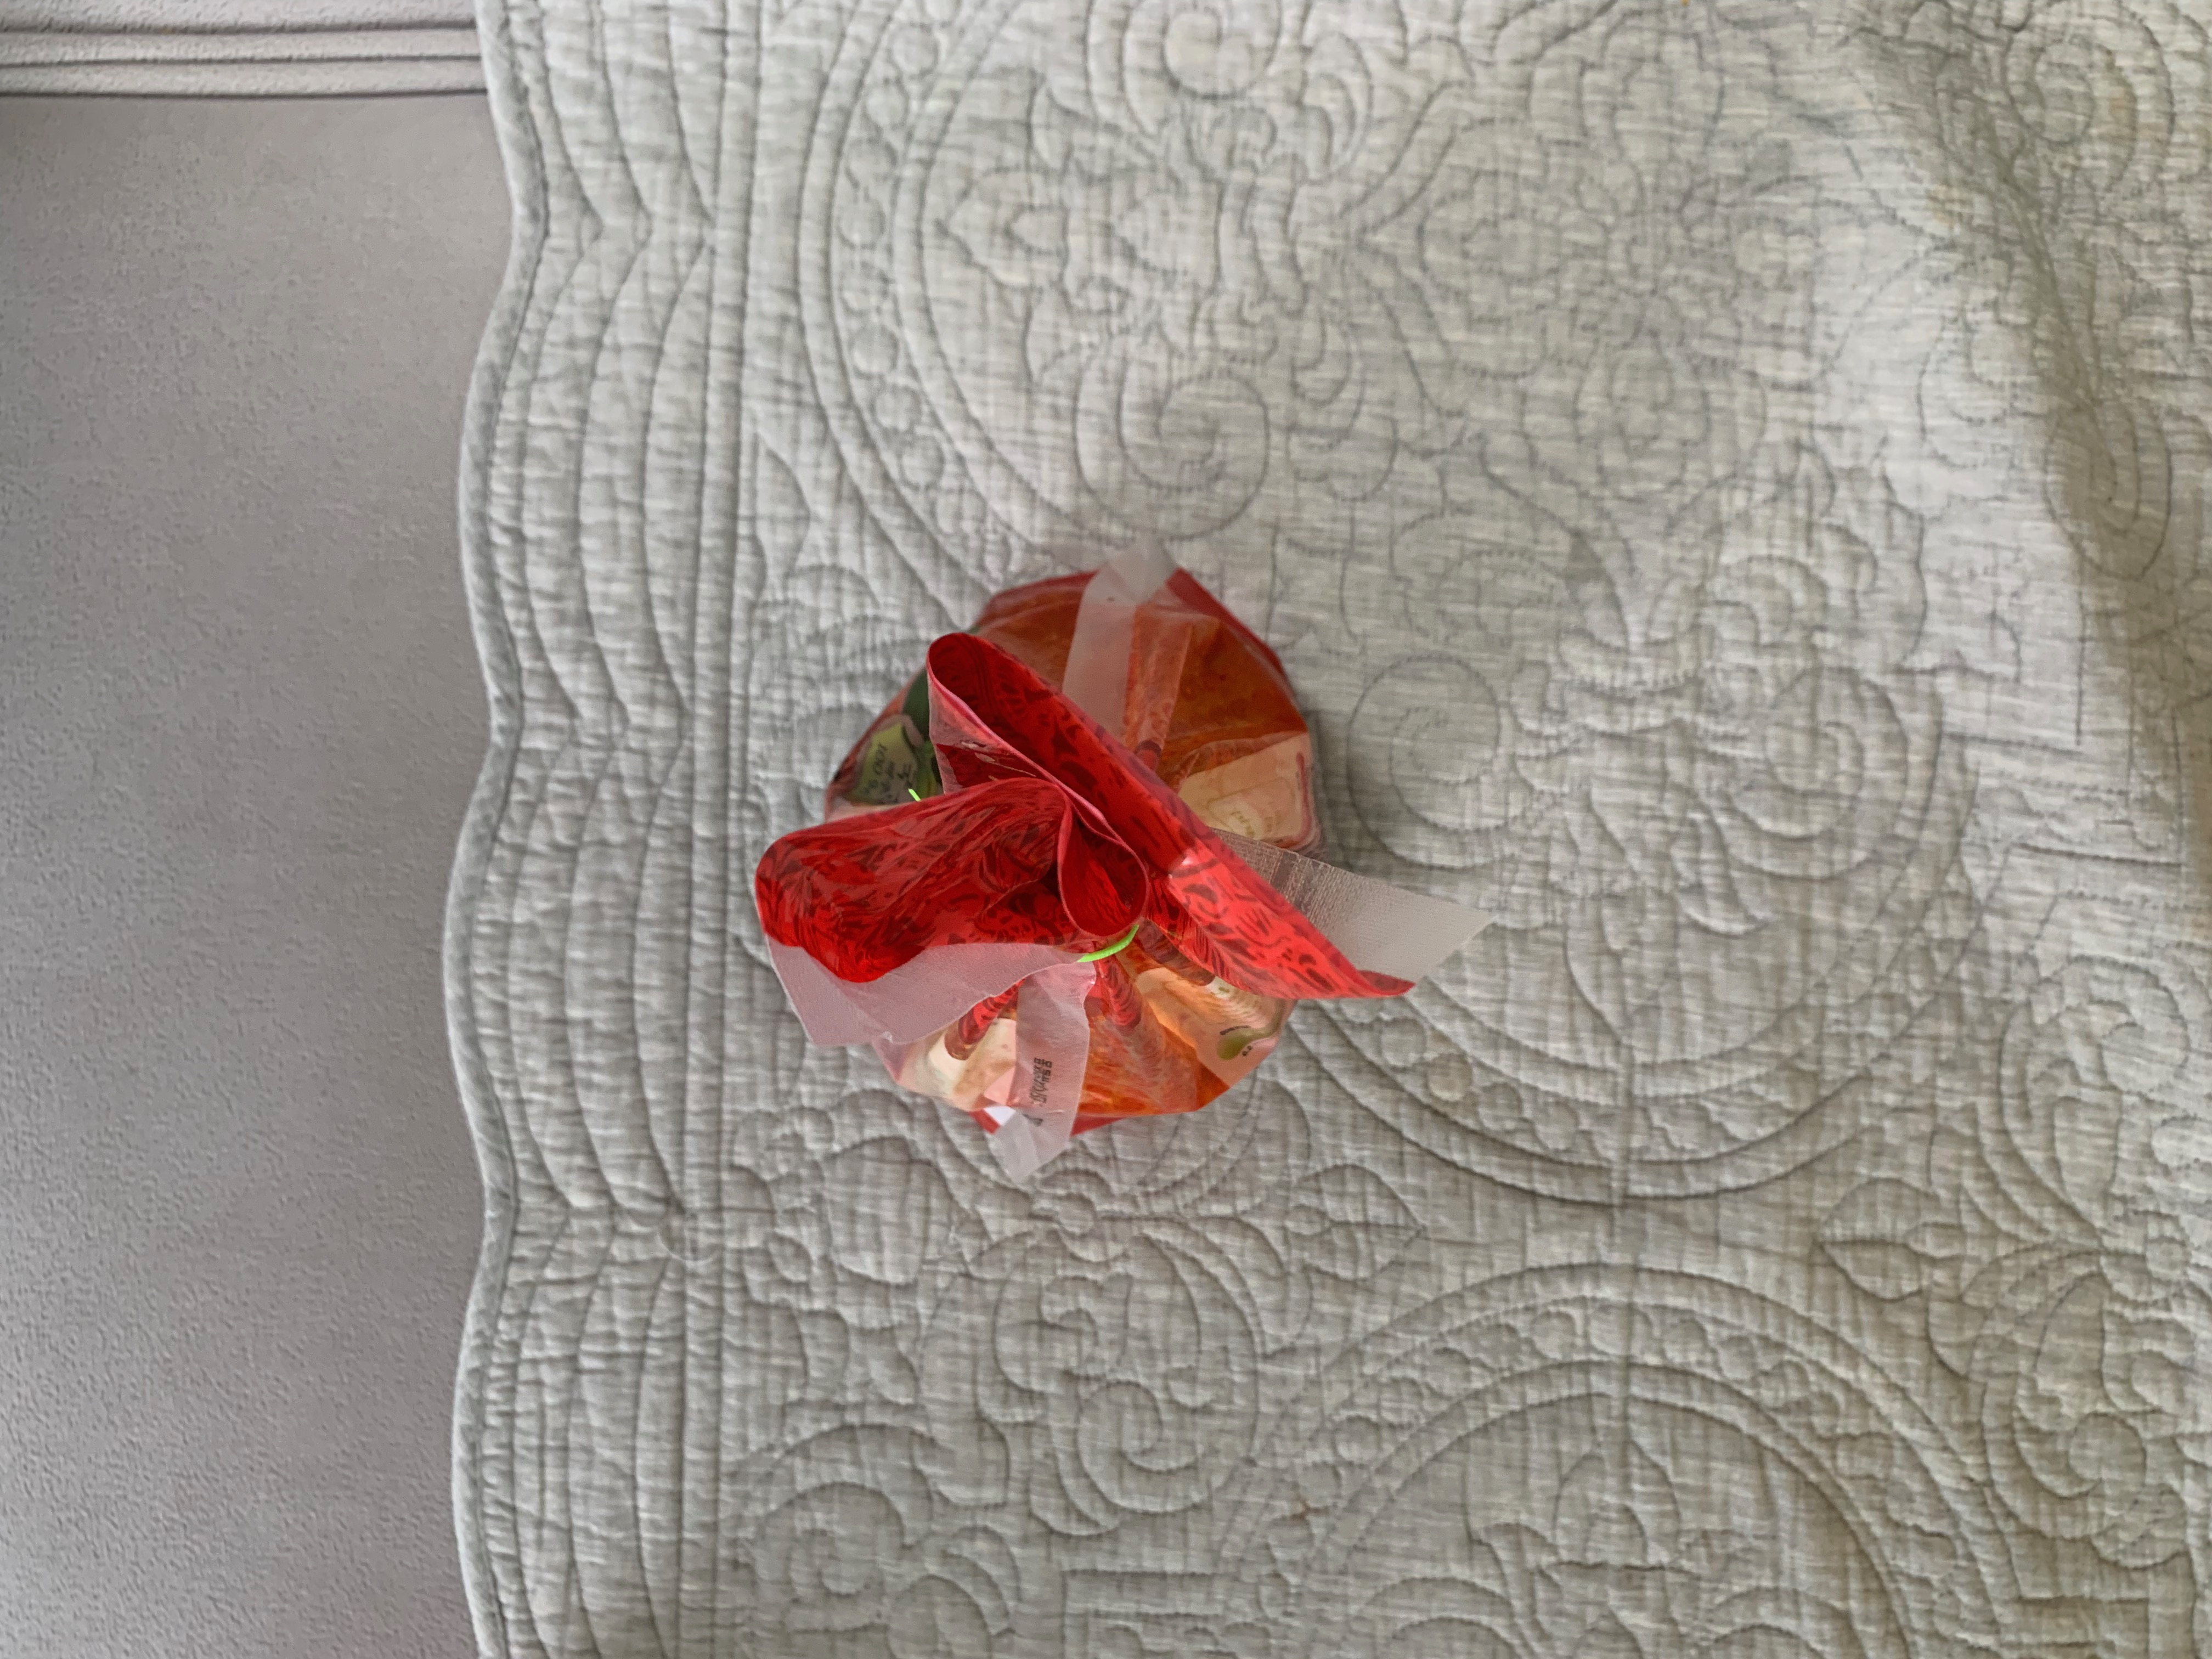kimchi: (754, 570, 1407, 1127)
